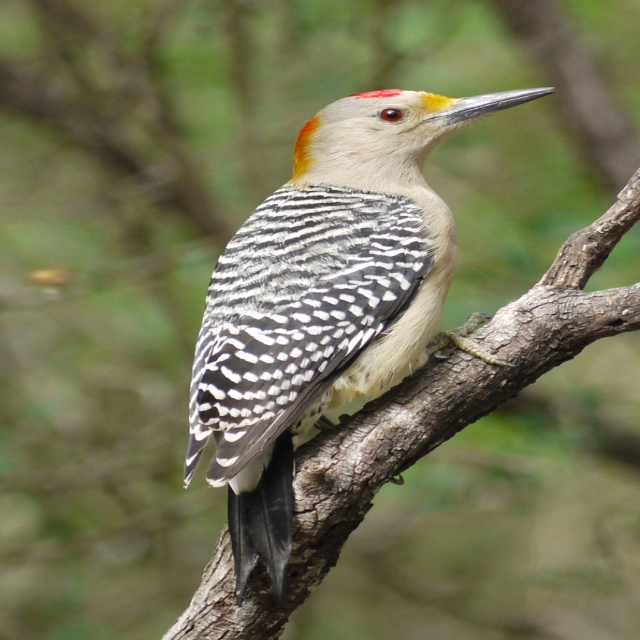Woodpecker: (182, 87, 556, 607)
